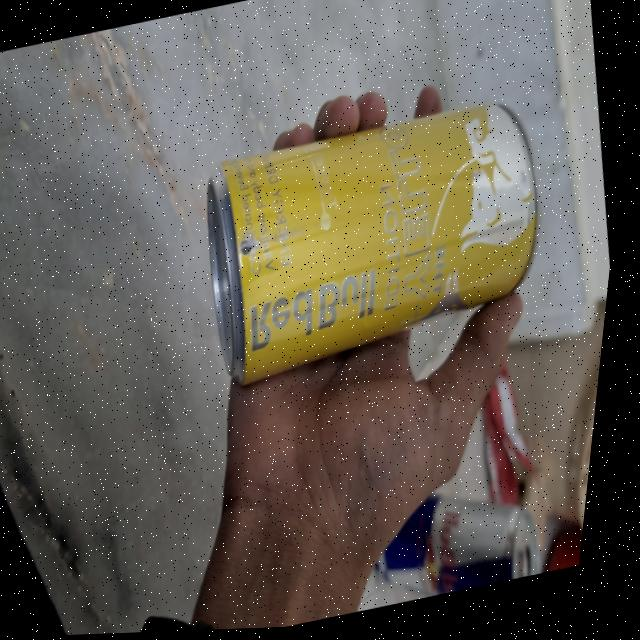Redbull Yellow Edition: (182, 95, 575, 388)
